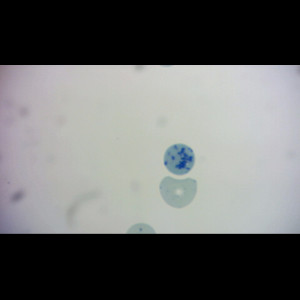aggregate reticulocyte: (162, 142, 196, 176)
punctate reticulocyte: (159, 175, 200, 209)
